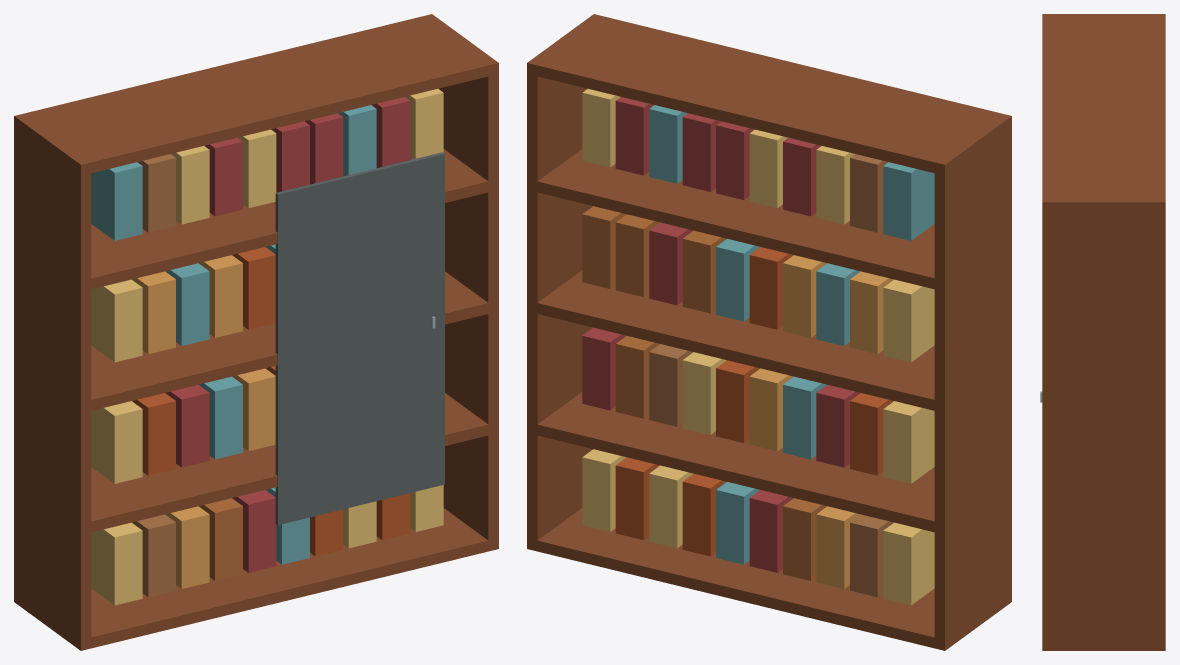
The model's file is gun_rack.glb.
The picture shows the model from 3 angles, left to right: view 1: azimuth 30°, elevation 25°; view 2: azimuth 150°, elevation 25°; view 3: azimuth 270°, elevation 25°; orthographic projection. The views are drawn at different scales.
Parts seen in each view (by area): view 1: object 1, door_mesh; view 2: object 1; view 3: object 1.
Part boxes in pixels (<box>): object 1: <box>14,14,498,650</box>; door_mesh: <box>275,152,444,524</box>; object 1: <box>527,14,1011,650</box>; object 1: <box>1042,14,1165,650</box>.
Bounding box in the file's own units: 1.8 × 2 × 0.507.
Materials: 1 (1 with a texture image).
